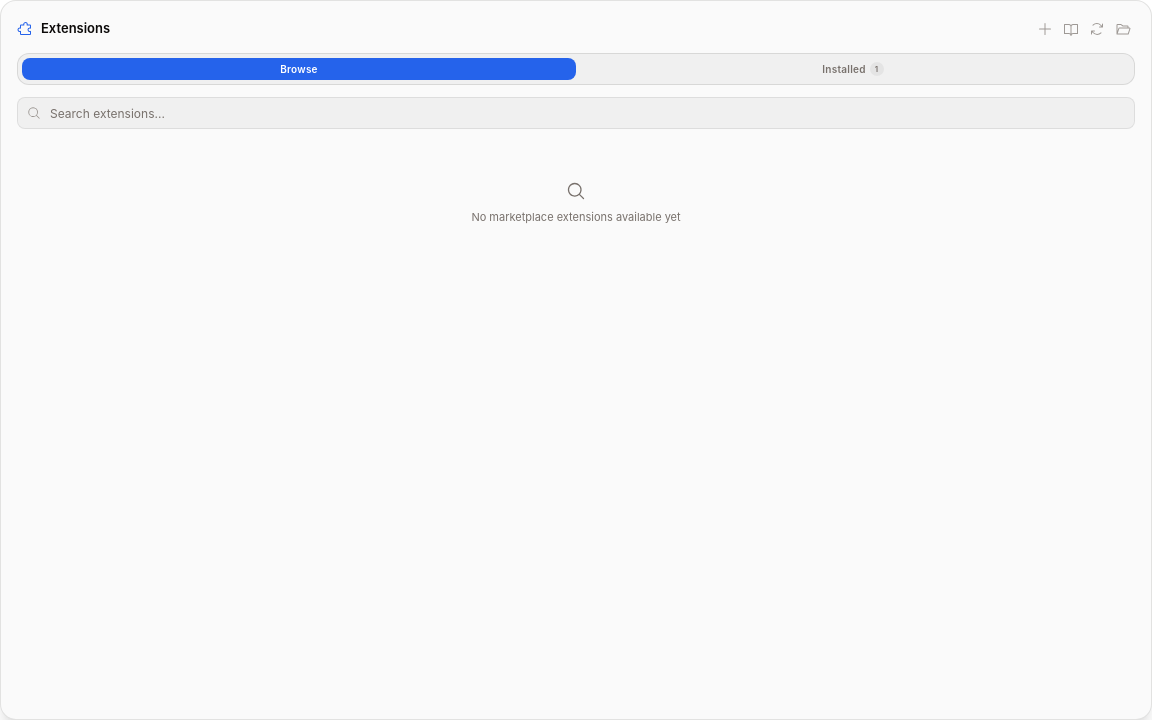
Scenario: ExtensionManager › lists installed extensions on the installed tab
Click the button "Installed 1" at (853, 69), box [576, 58, 1130, 80]
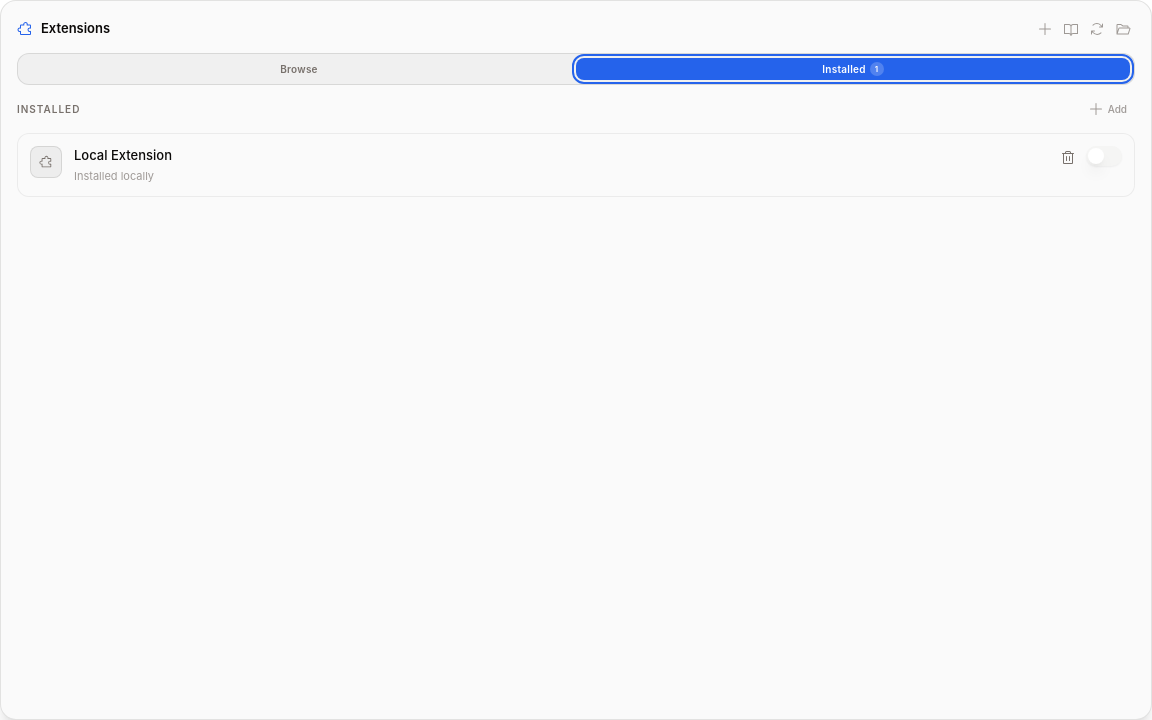
Expected: the text "Local Extension" is shown, [74, 146, 172, 166]
